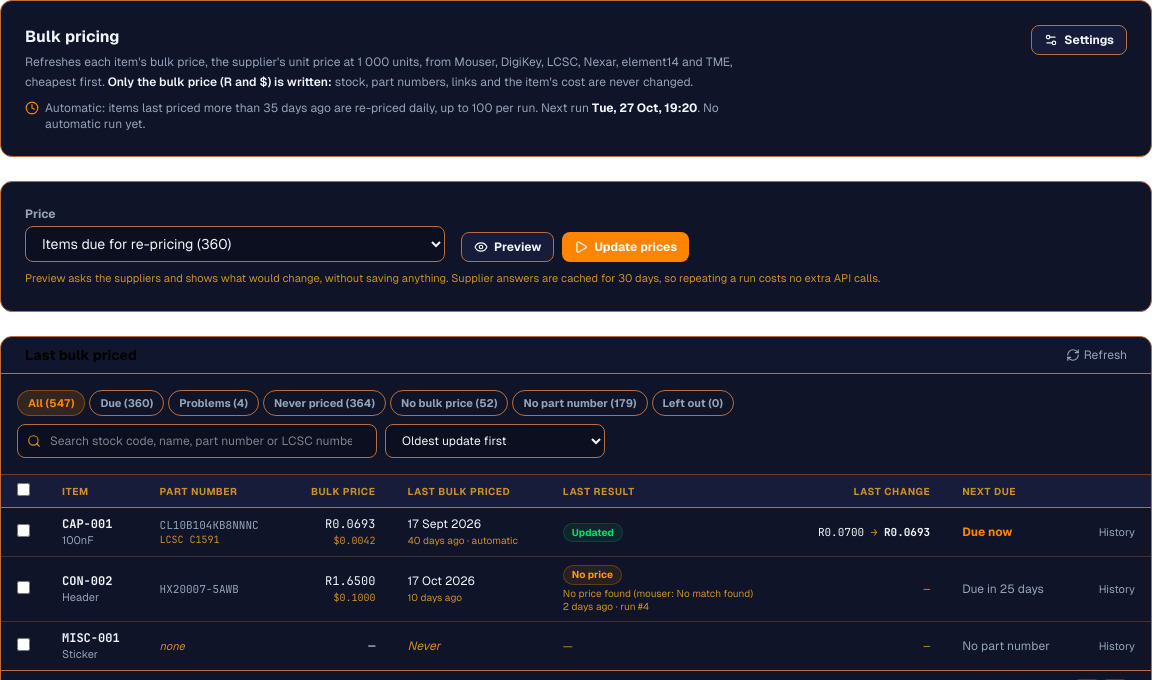
Test: the log › shows an item's price history
Step 1. Click the button "History" in the row of "CAP-001" → (1117, 533), box [1099, 525, 1135, 540]
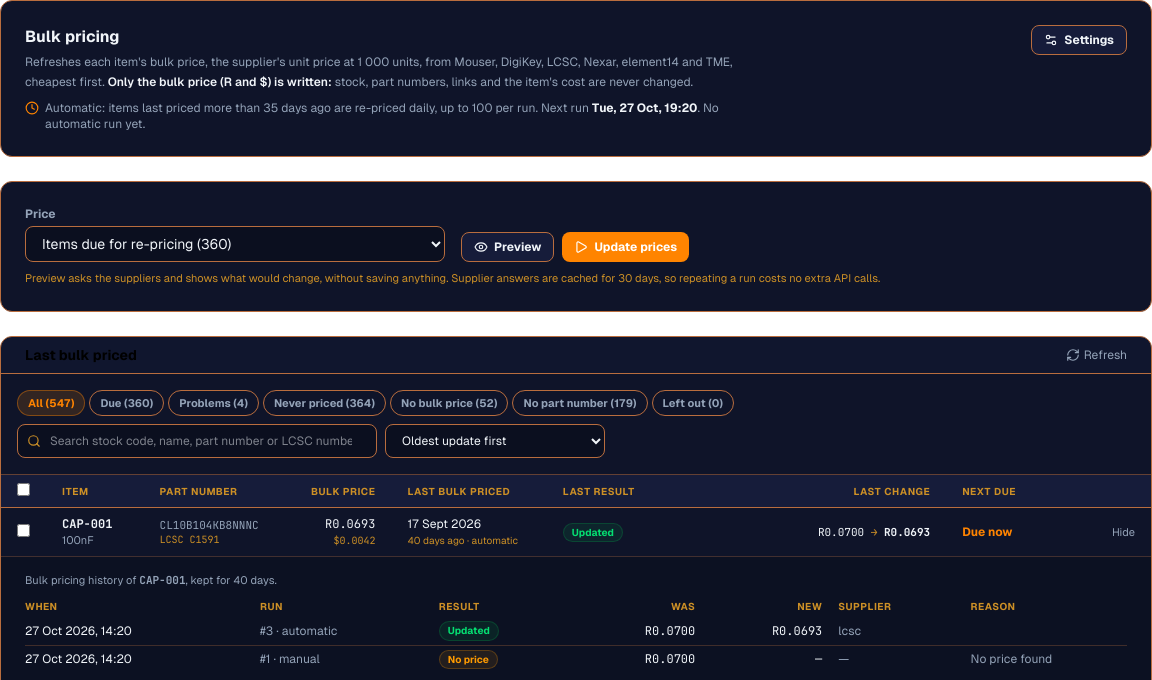
Now the element with test id "item-history" shows "Bulk pricing history of CAP-001, kept for 40 days.", box [25, 573, 1127, 673]
